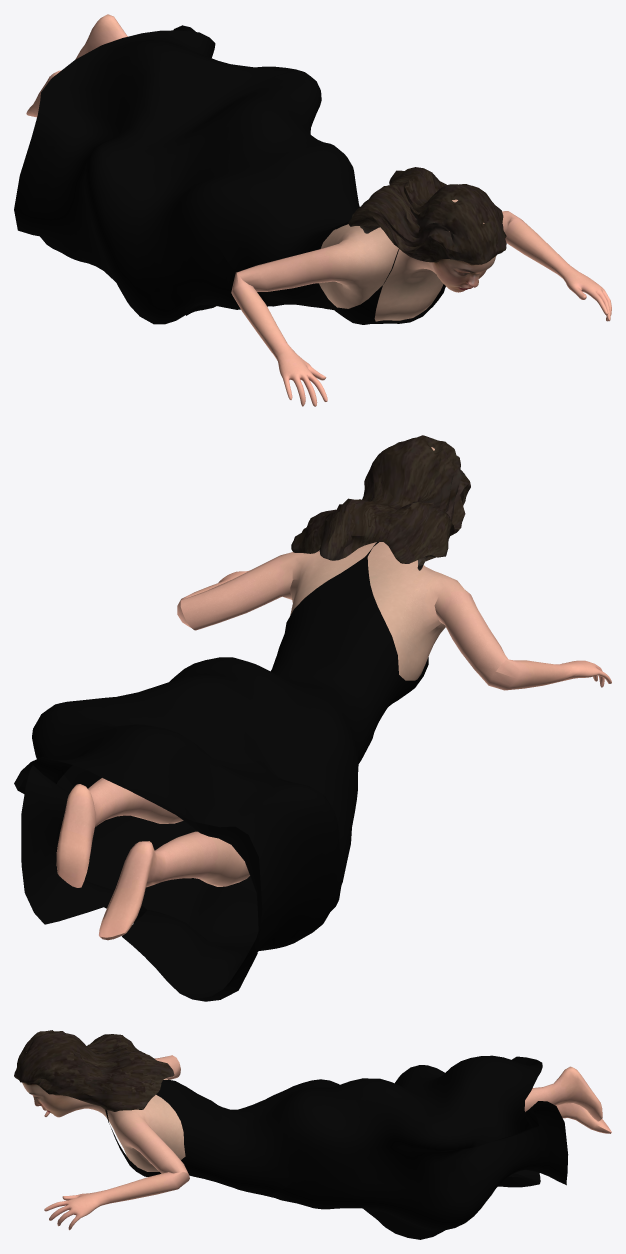
File: tidelander_swim_v03_model.fbx
3 renders of one model, top to bottom at view 1: azimuth 30°, elevation 25°; view 2: azimuth 150°, elevation 25°; view 3: azimuth 270°, elevation 25°, orthographic. The views are drawn at different scales.
Visible parts, largest first — view 1: geo2; view 2: geo2; view 3: geo2.
Part boxes in pixels (x1,y1,x2,y2): geo2: [14, 14, 611, 406]; geo2: [14, 435, 611, 1001]; geo2: [14, 1030, 611, 1239].
Bounding box in the file's own units: 91.03 × 72.39 × 179.
Materials: 2 (1 with a texture image).
